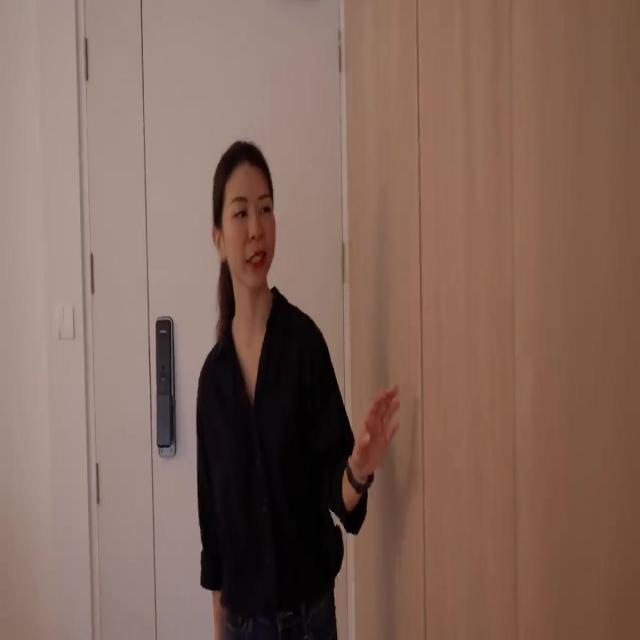door: (83, 0, 344, 640)
obstacle: (342, 0, 640, 638)
person: (196, 138, 400, 640)
